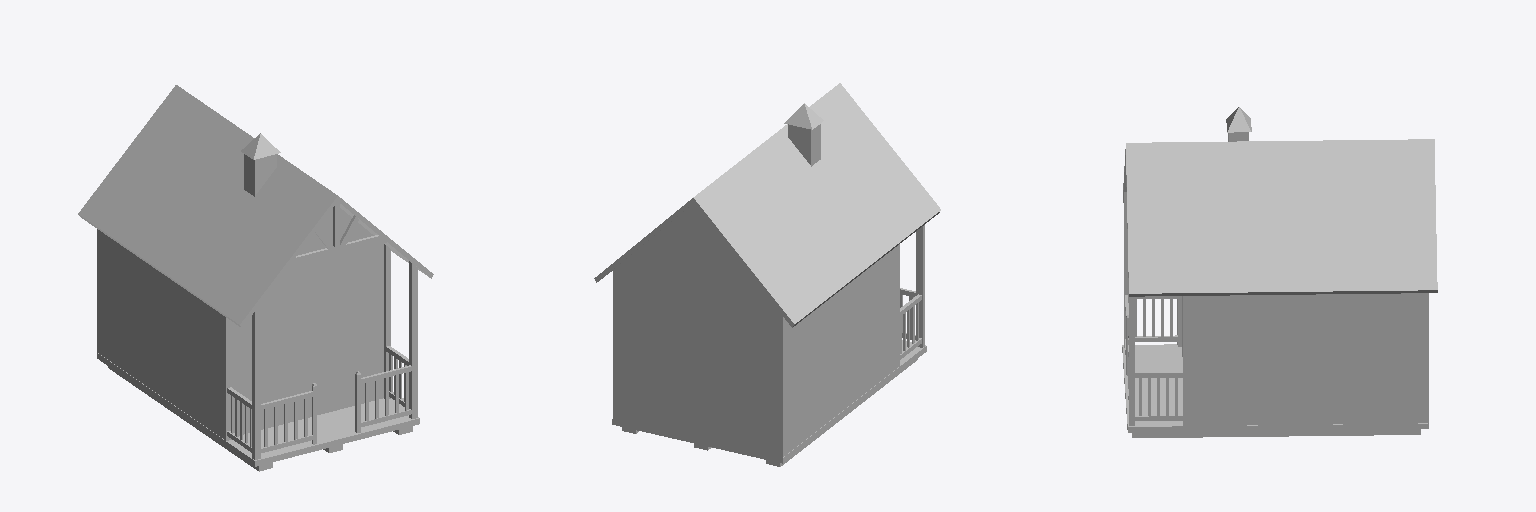
Rendered from casa.obj.
3 renders of one model, left to right at view 1: azimuth 30°, elevation 25°; view 2: azimuth 150°, elevation 25°; view 3: azimuth 270°, elevation 25°, orthographic.
Visible parts, largest first — view 1: Snow_covered_CottageOBJ; view 2: Snow_covered_CottageOBJ; view 3: Snow_covered_CottageOBJ.
Part boxes in pixels (left/top/right/bottom): Snow_covered_CottageOBJ: left=78, top=85, right=433, bottom=471; Snow_covered_CottageOBJ: left=594, top=83, right=940, bottom=466; Snow_covered_CottageOBJ: left=1122, top=107, right=1437, bottom=437.
Bounding box in the file's own units: 1.09 × 1.44 × 1.45.